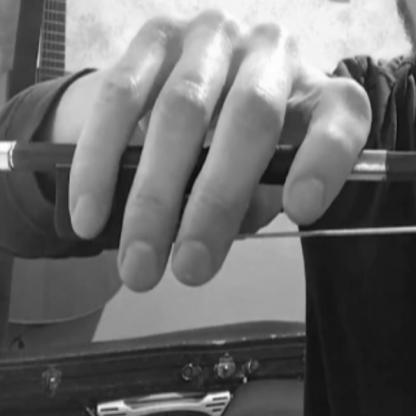good: (62, 0, 375, 292)
